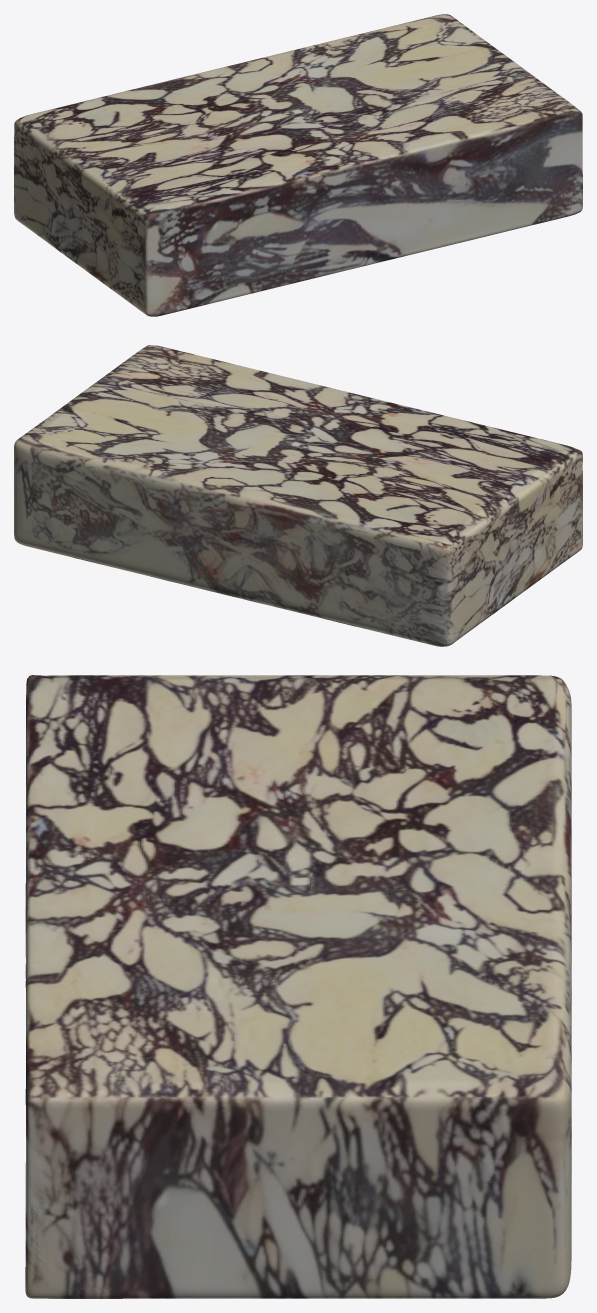
3 renders of one model, top to bottom at view 1: azimuth 30°, elevation 25°; view 2: azimuth 150°, elevation 25°; view 3: azimuth 270°, elevation 25°, orthographic. The views are drawn at different scales.
Parts seen in each view (by area): view 1: tripo_node_5108481f-0c13-4724-9273-7752d59f4f2d; view 2: tripo_node_5108481f-0c13-4724-9273-7752d59f4f2d; view 3: tripo_node_5108481f-0c13-4724-9273-7752d59f4f2d.
Part boxes in pixels (x1,y1,x2,y2): tripo_node_5108481f-0c13-4724-9273-7752d59f4f2d: (14, 14, 582, 316); tripo_node_5108481f-0c13-4724-9273-7752d59f4f2d: (14, 345, 582, 646); tripo_node_5108481f-0c13-4724-9273-7752d59f4f2d: (25, 675, 571, 1298).
Bounding box in the file's own units: 0.9483 × 0.2196 × 0.5126.
1 material, 1 textured.
